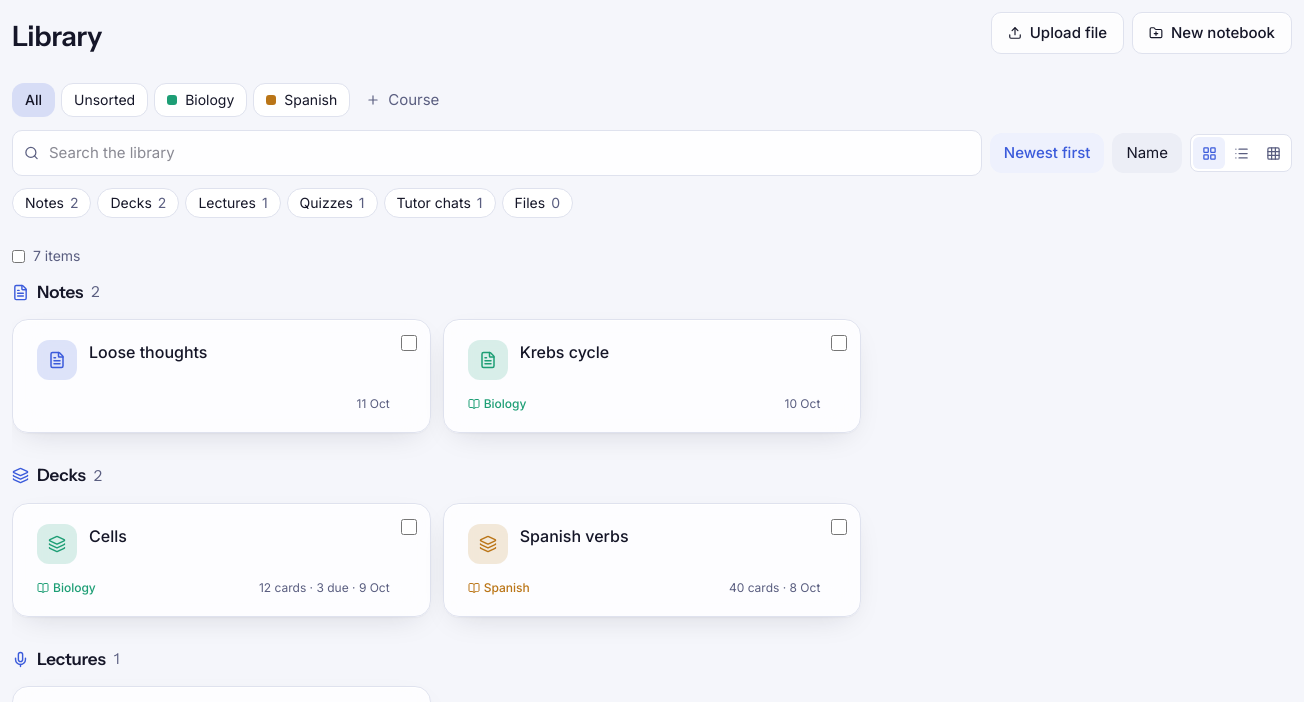
Test: Library › finding things › filters by kind, and the chips say how many each holds
expect the button "Tutor chats 1" is shown: met, box x1=384 y1=188 x2=496 y2=218
Click the button "Decks 2": (138, 203) x1=98 y1=188 x2=179 y2=218
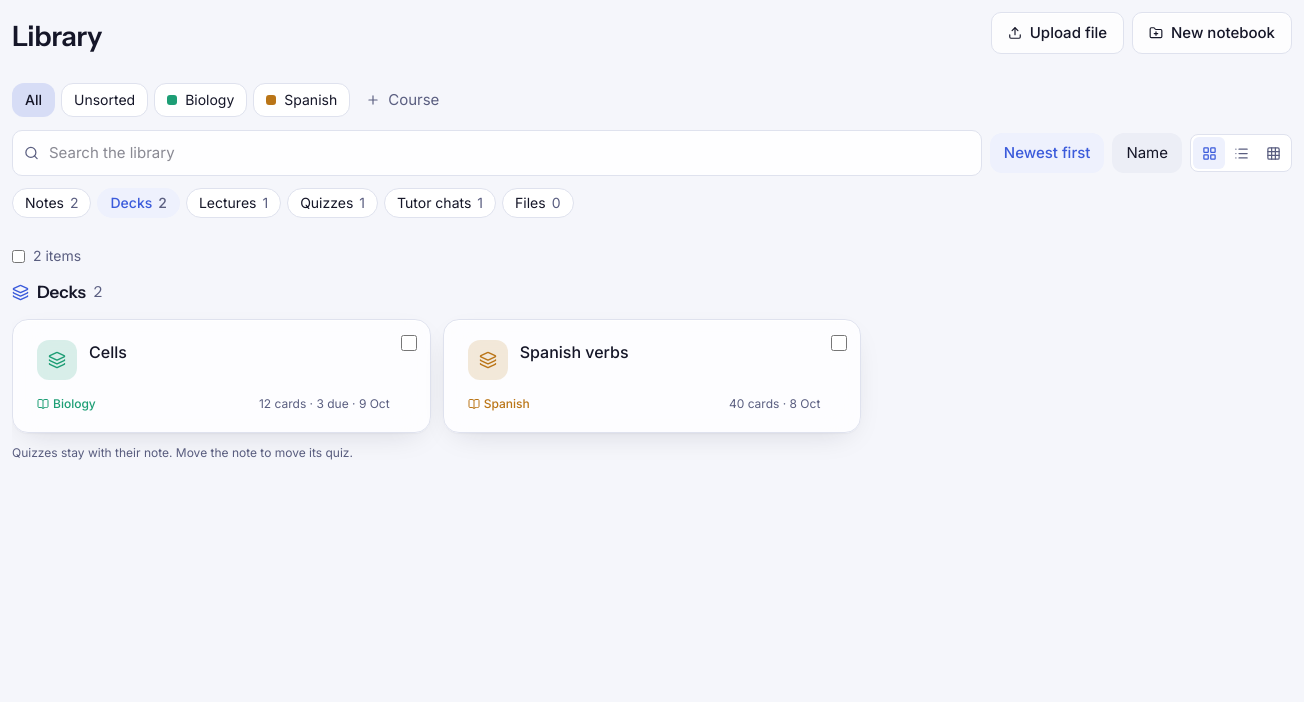
expect the number of links is 2: met, box x1=12 y1=319 x2=431 y2=433; x1=443 y1=319 x2=861 y2=433
Click the button "Decks 2": (139, 203) x1=98 y1=188 x2=180 y2=218
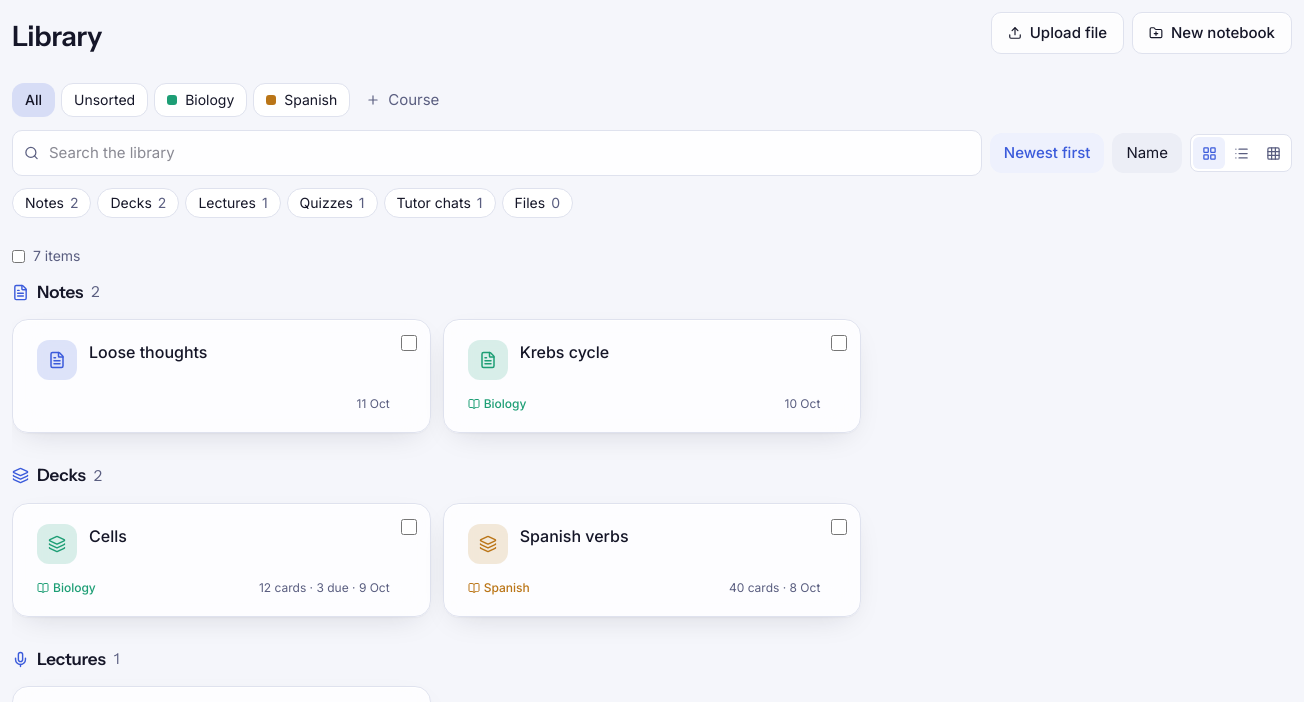
expect the number of links is 7: met
